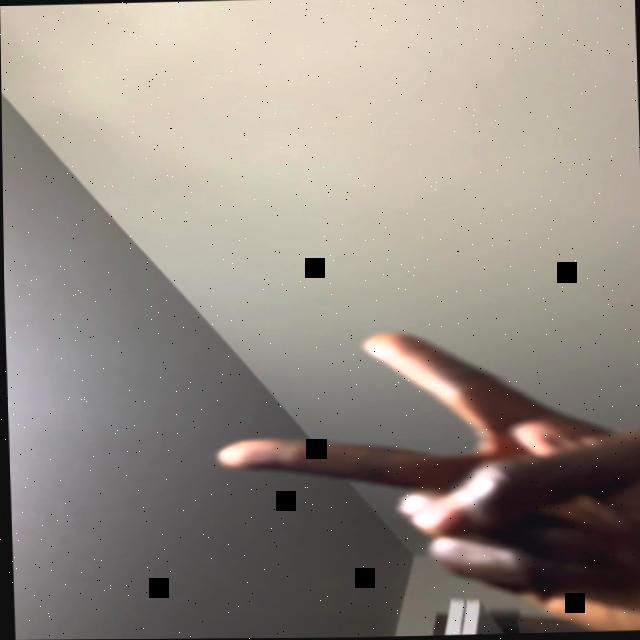Scissors: (209, 324, 640, 639)
